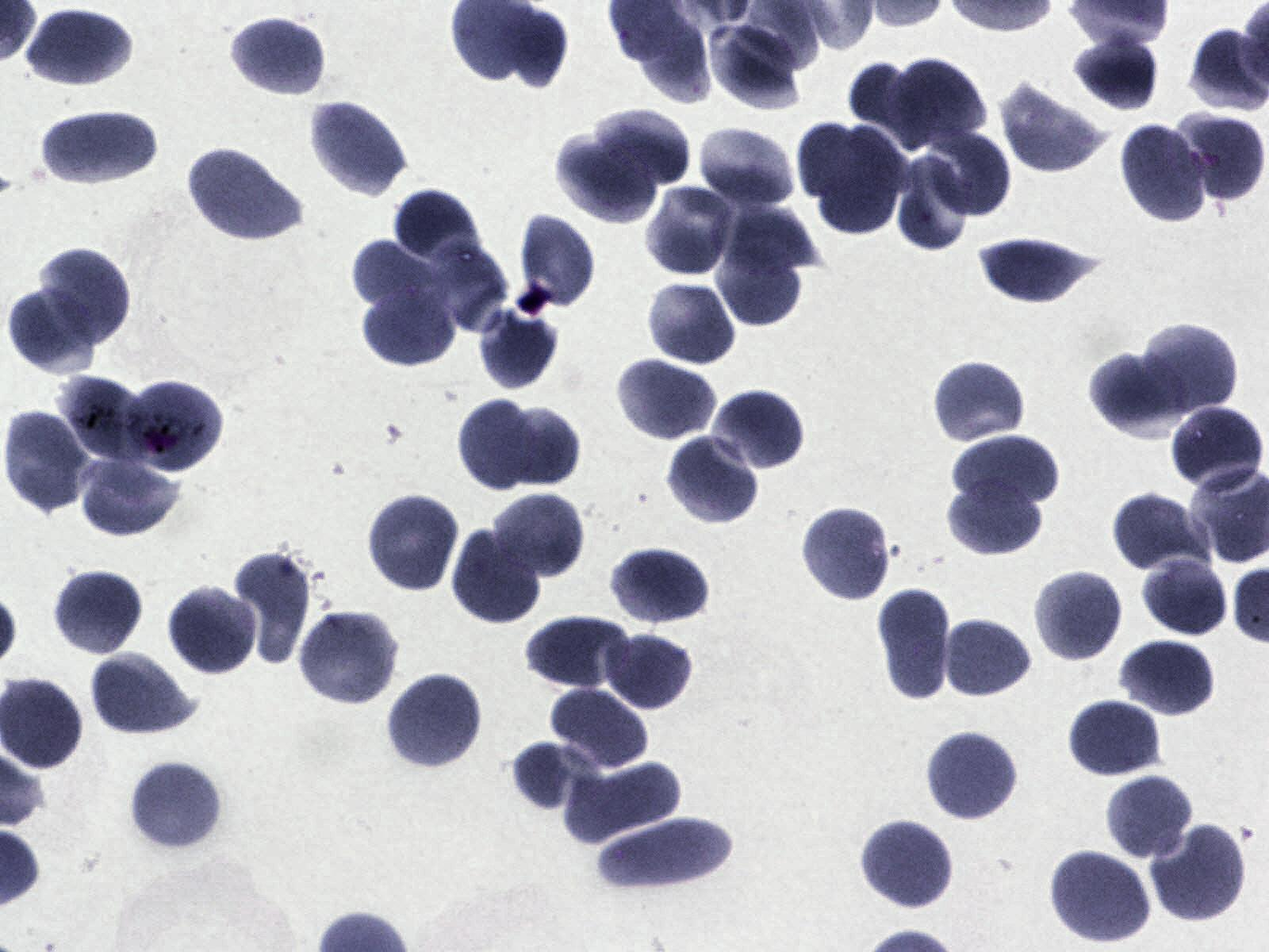Uninfected: (592, 808, 734, 890), (993, 82, 1106, 177), (1047, 847, 1152, 948), (38, 243, 136, 351), (381, 674, 485, 774), (190, 148, 299, 243), (574, 759, 689, 846), (702, 21, 809, 113), (885, 57, 985, 155), (1137, 320, 1239, 416), (86, 650, 194, 740), (301, 608, 398, 708), (6, 403, 91, 517), (450, 524, 543, 628), (305, 102, 409, 194), (646, 181, 740, 282), (1121, 121, 1213, 223), (238, 549, 313, 674), (925, 728, 1022, 823), (978, 232, 1094, 311), (561, 134, 658, 228), (618, 356, 717, 447), (130, 758, 224, 853), (167, 585, 263, 678), (803, 505, 895, 602), (714, 235, 807, 330), (58, 371, 147, 470), (1082, 356, 1183, 443), (817, 129, 904, 230), (697, 125, 798, 211), (634, 6, 716, 111), (1156, 830, 1241, 931), (596, 107, 692, 196), (128, 382, 221, 473), (554, 684, 652, 770), (429, 238, 512, 339), (611, 547, 715, 627), (1121, 637, 1220, 721), (712, 387, 803, 478), (936, 355, 1030, 443), (75, 459, 181, 537), (883, 590, 957, 701), (938, 615, 1031, 703), (1105, 774, 1196, 863), (1177, 117, 1264, 209), (44, 111, 156, 182), (528, 616, 635, 690), (6, 292, 99, 377), (948, 476, 1041, 560), (717, 198, 817, 275), (374, 500, 453, 597), (29, 13, 132, 86), (1035, 573, 1121, 660), (1141, 554, 1229, 639), (606, 629, 694, 714), (393, 188, 483, 271), (229, 15, 321, 96), (955, 435, 1056, 508), (458, 399, 536, 493), (516, 217, 595, 309), (363, 286, 454, 365), (509, 737, 600, 816), (497, 497, 581, 582), (670, 437, 756, 520), (865, 822, 952, 904), (1172, 409, 1264, 486), (851, 64, 936, 145), (55, 572, 138, 654), (1114, 497, 1202, 572), (899, 149, 964, 250), (1071, 700, 1159, 774), (348, 240, 443, 308), (1075, 33, 1155, 113), (932, 130, 1008, 214), (799, 124, 880, 199), (650, 289, 732, 363), (502, 410, 580, 486), (475, 317, 554, 390), (495, 11, 564, 89)
